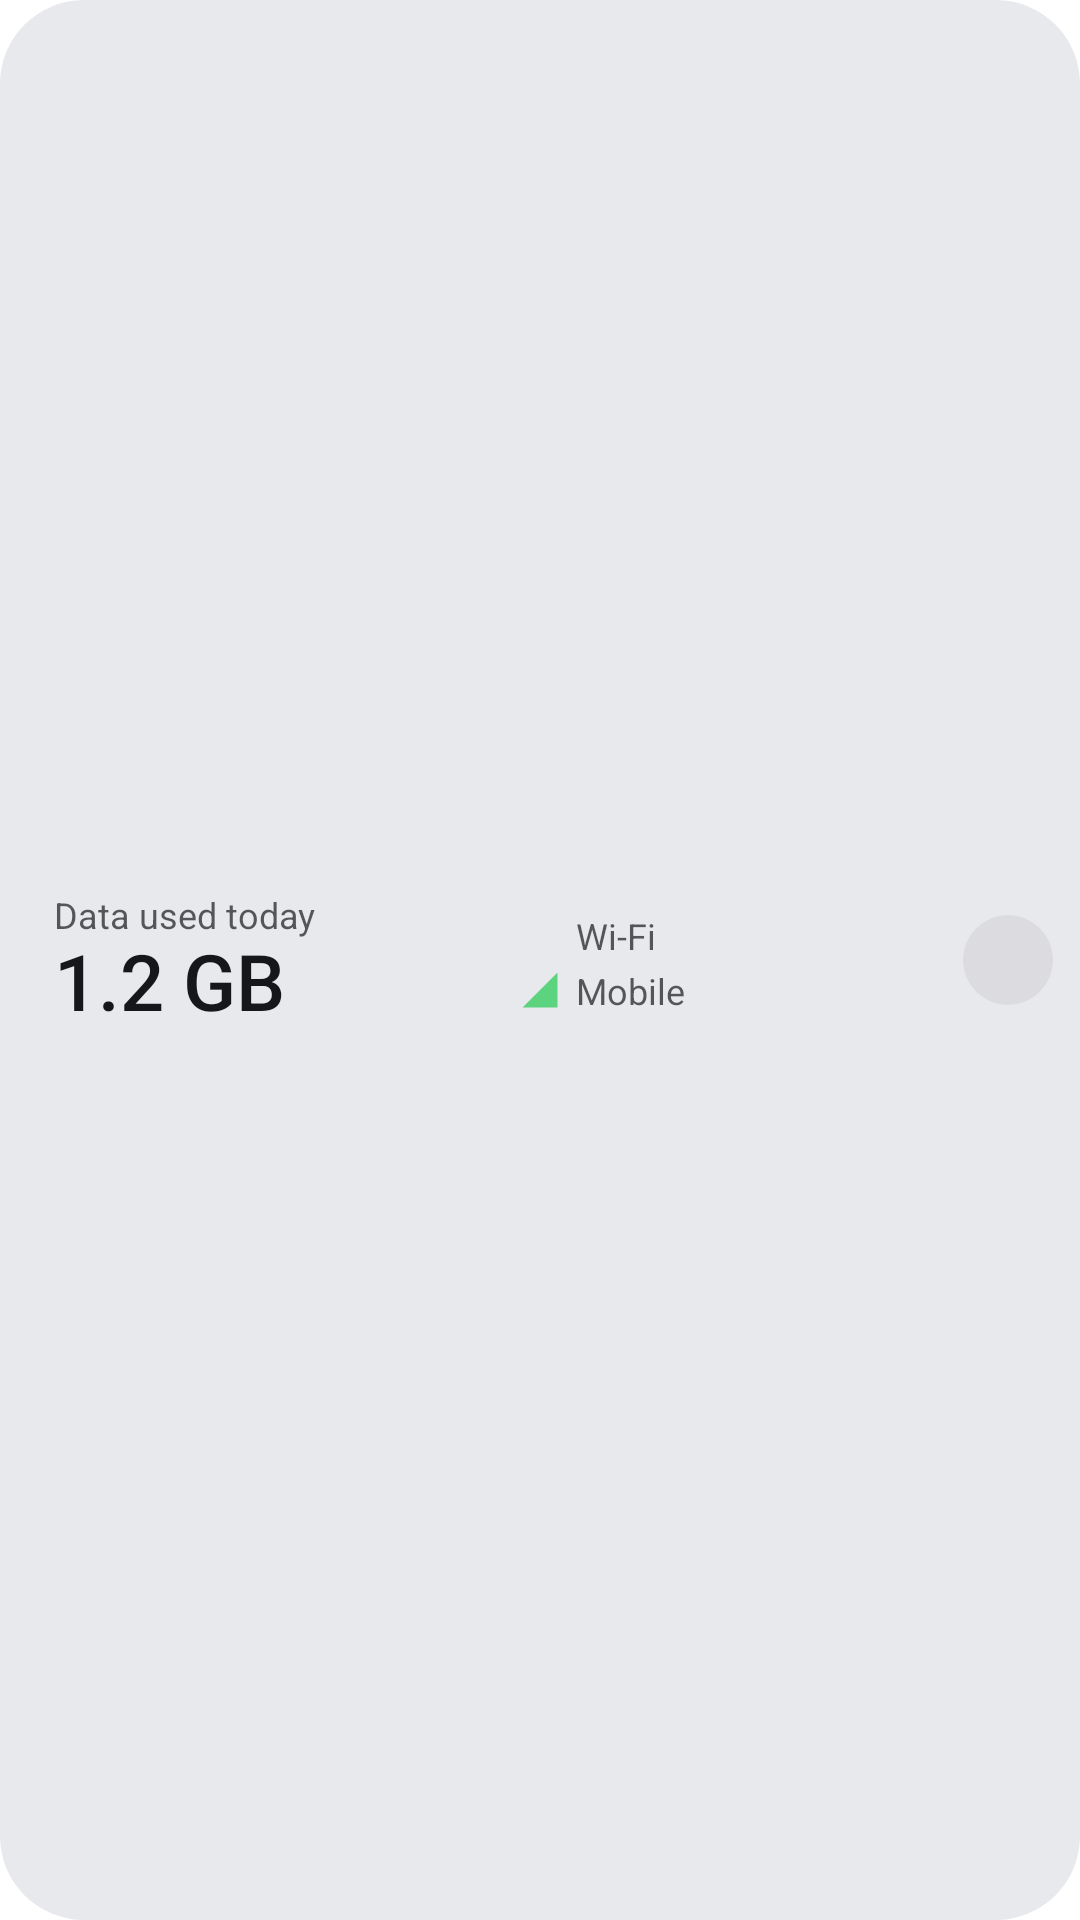

Icon bounding boxes for this 1080×1920 phone screenshot, format (x1, y1, x2, y2):
cell: (523, 973, 558, 1008)
